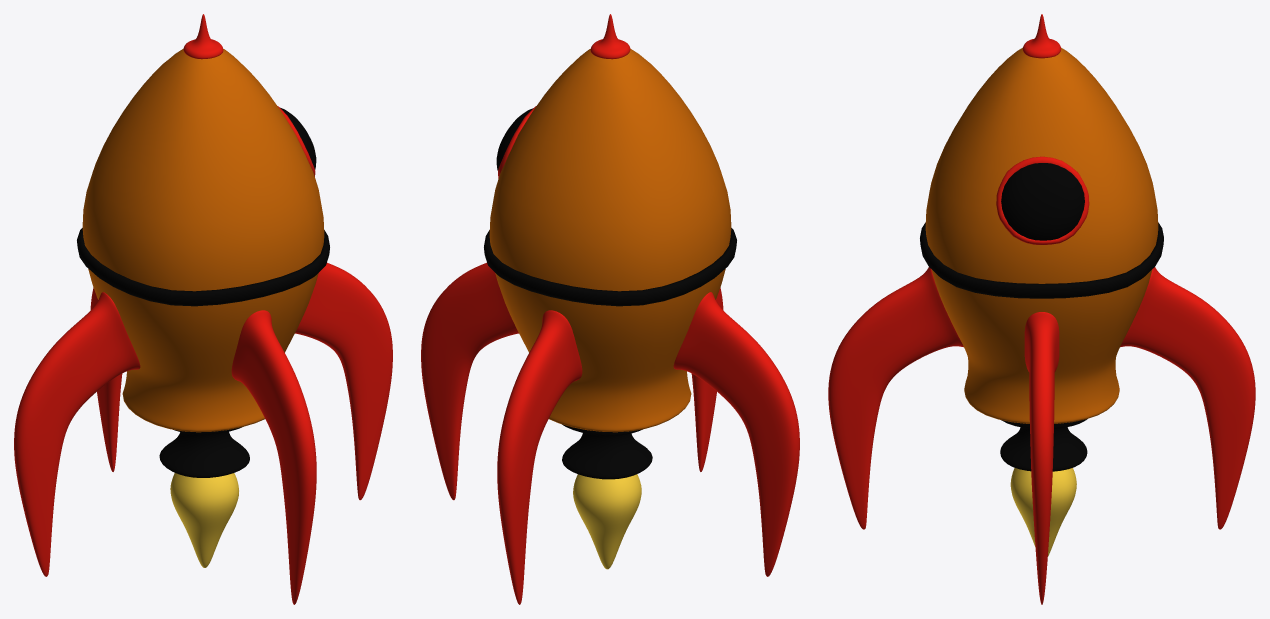
3 renders of one model, left to right at view 1: azimuth 30°, elevation 25°; view 2: azimuth 150°, elevation 25°; view 3: azimuth 270°, elevation 25°, orthographic.
Parts seen in each view (by area): view 1: Body_1, Leg.002_4, Leg.000_2, Leg.001_3, Belt_8, Fire_10, Engine_9, Leg.003_5, Nose cone_0; view 2: Body_1, Leg.002_4, Leg.000_2, Leg.003_5, Belt_8, Fire_10, Engine_9, Leg.001_3, Nose cone_0; view 3: Body_1, Leg.001_3, Leg.003_5, Leg.000_2, Window_7, Belt_8, Fire_10, Engine_9, Window frame_6, Nose cone_0.
Boxes of the visible parts, x1,y1,x2,y2 form: Body_1: [82, 48, 324, 432]; Leg.002_4: [14, 292, 140, 576]; Leg.000_2: [295, 262, 392, 500]; Leg.001_3: [231, 310, 316, 604]; Belt_8: [77, 228, 329, 306]; Fire_10: [170, 473, 238, 567]; Engine_9: [159, 427, 249, 477]; Leg.003_5: [90, 287, 122, 471]; Nose cone_0: [183, 14, 223, 59]; Body_1: [489, 48, 731, 432]; Leg.002_4: [673, 292, 799, 576]; Leg.000_2: [421, 262, 518, 500]; Leg.003_5: [497, 310, 582, 604]; Belt_8: [484, 228, 736, 306]; Fire_10: [573, 474, 641, 569]; Engine_9: [562, 424, 652, 479]; Leg.001_3: [691, 287, 723, 471]; Nose cone_0: [590, 14, 630, 59]; Body_1: [925, 47, 1158, 423]; Leg.001_3: [828, 267, 963, 529]; Leg.003_5: [1120, 267, 1255, 529]; Leg.000_2: [1024, 312, 1059, 604]; Window_7: [1001, 163, 1084, 240]; Belt_8: [920, 222, 1163, 298]; Fire_10: [1010, 468, 1076, 556]; Engine_9: [1000, 419, 1087, 471]; Window frame_6: [996, 156, 1089, 244]; Nose cone_0: [1023, 14, 1060, 58].
Size of the model in its own units: 4.43 by 6.24 by 4.43.
